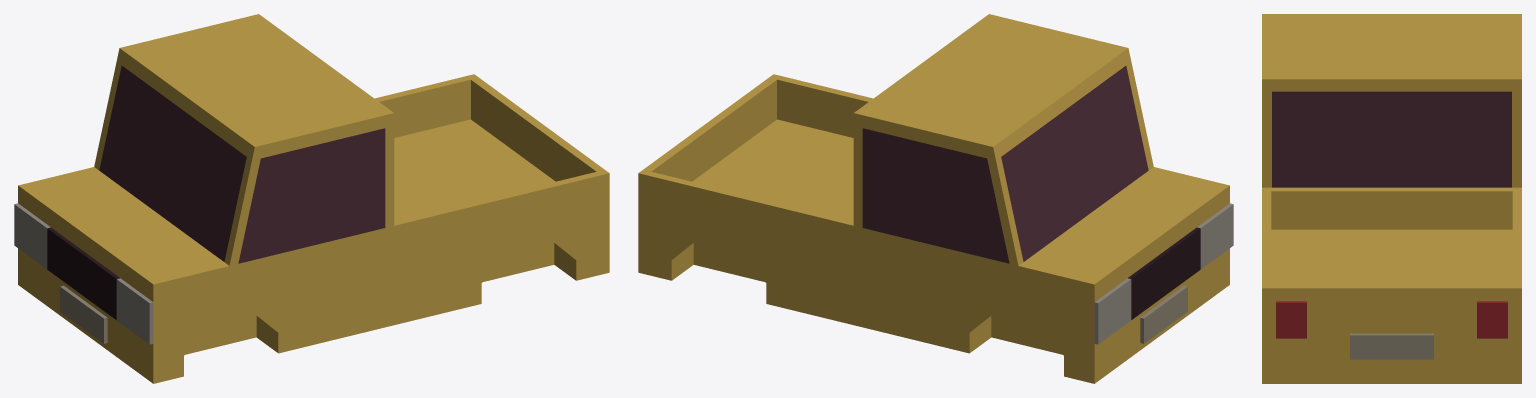
Rendered from Pickup_Yellow.fbx.
3 views of the same model, side by side, from view 1: azimuth 30°, elevation 25°; view 2: azimuth 150°, elevation 25°; view 3: azimuth 270°, elevation 25° (orthographic). The views are drawn at different scales.
Parts seen in each view (by area): view 1: Pickup_Yellow, Pickup_Lights; view 2: Pickup_Yellow, Pickup_Lights; view 3: Pickup_Yellow, Pickup_Lights.
Boxes of the visible parts, bbox=[...] form: Pickup_Yellow: bbox=[18, 14, 609, 383]; Pickup_Lights: bbox=[14, 203, 153, 344]; Pickup_Yellow: bbox=[638, 14, 1229, 383]; Pickup_Lights: bbox=[1094, 203, 1233, 344]; Pickup_Yellow: bbox=[1262, 14, 1521, 383]; Pickup_Lights: bbox=[1276, 301, 1507, 338].
Bounding box in the file's own units: 3.66 × 1.6 × 1.85.
